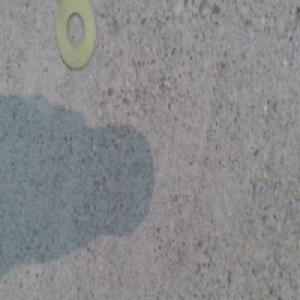Washer: (55, 5, 96, 77)
